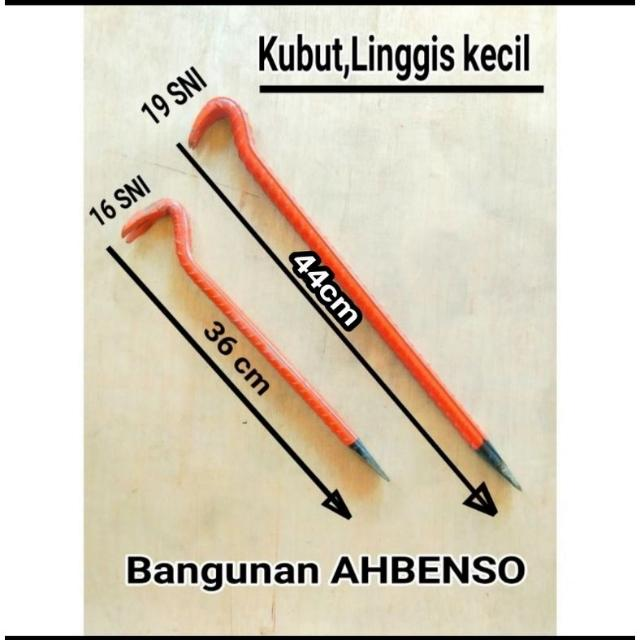crow bar: (183, 83, 532, 502), (111, 195, 399, 490)
